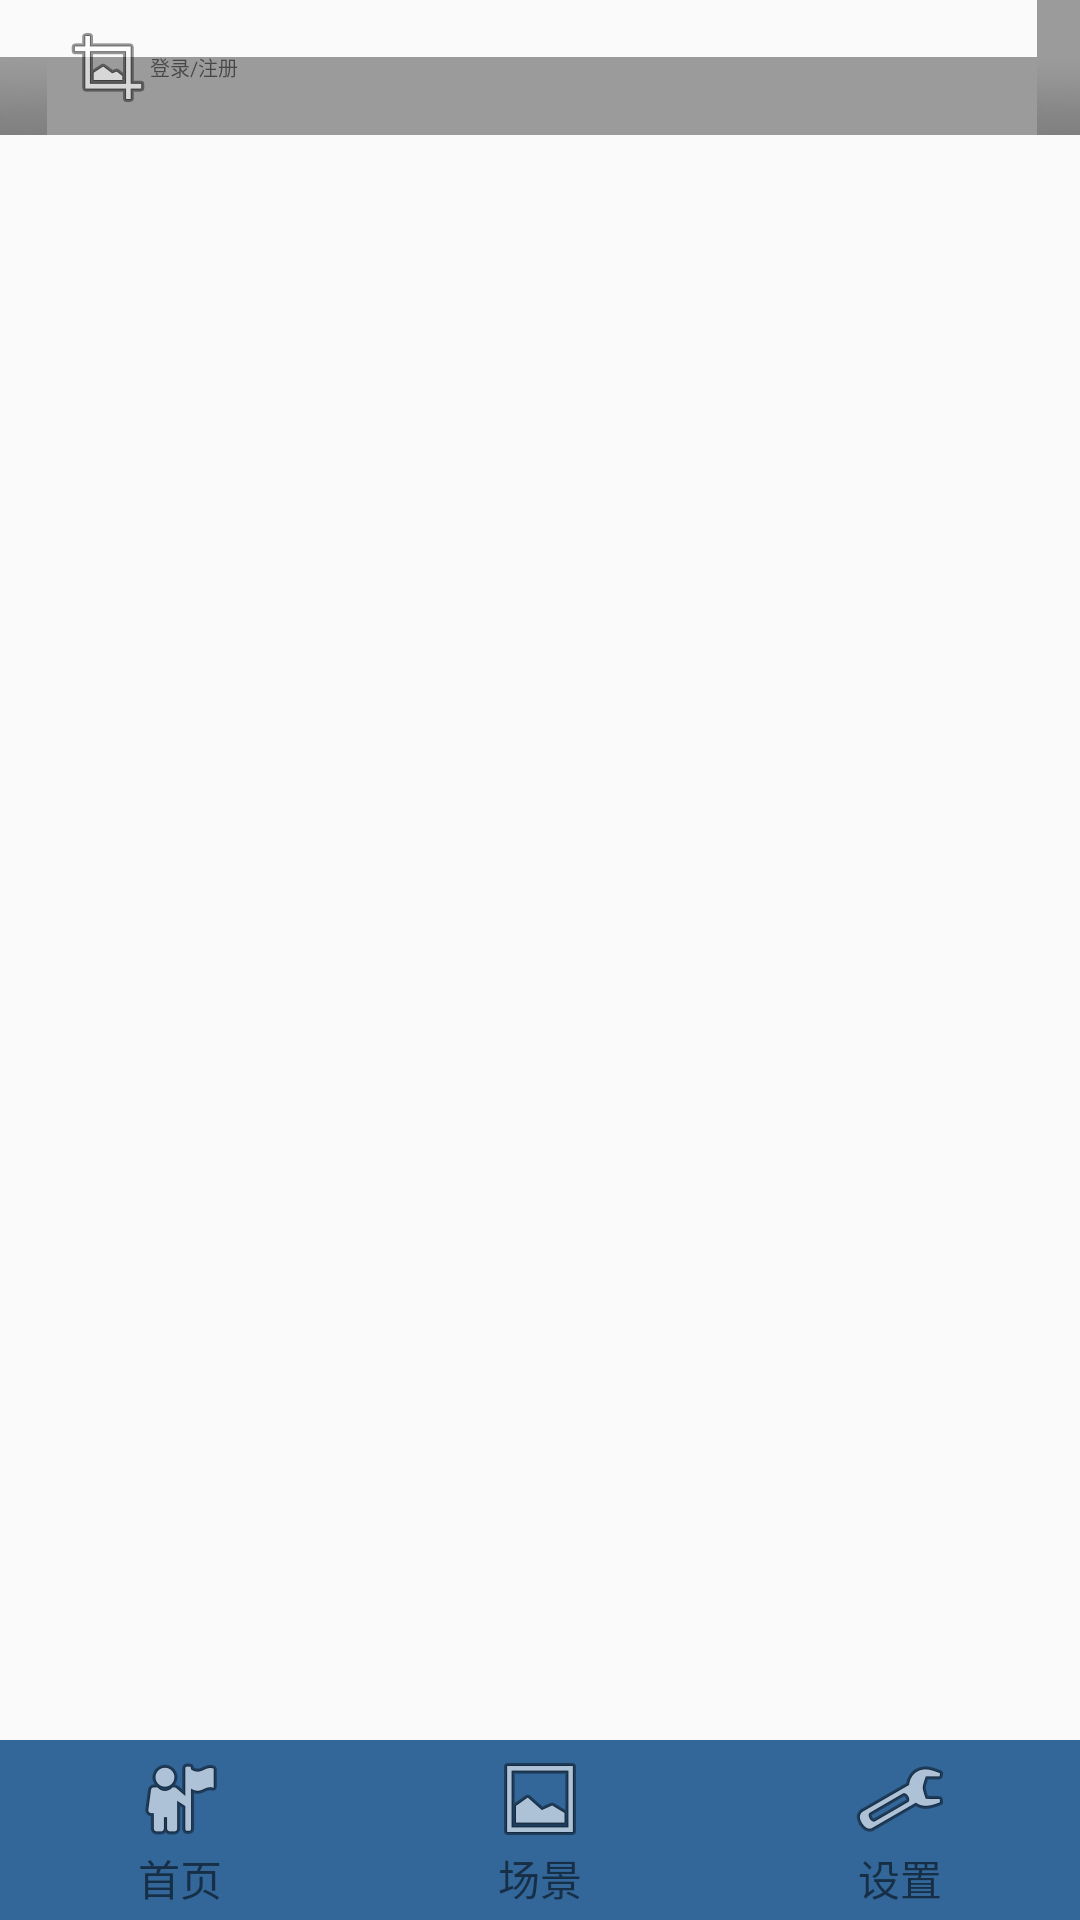

Named icons in this screenshot (1080 × 1920) and their centers, [x,y]:
crop: [108,67]
gallery: [540,1799]
manage: [900,1799]
myplaces: [181,1799]
